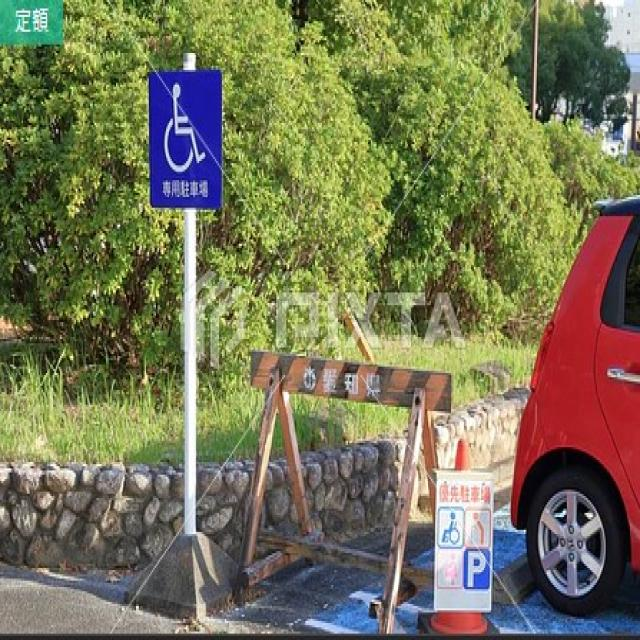symbol_of_access: (146, 65, 224, 213)
